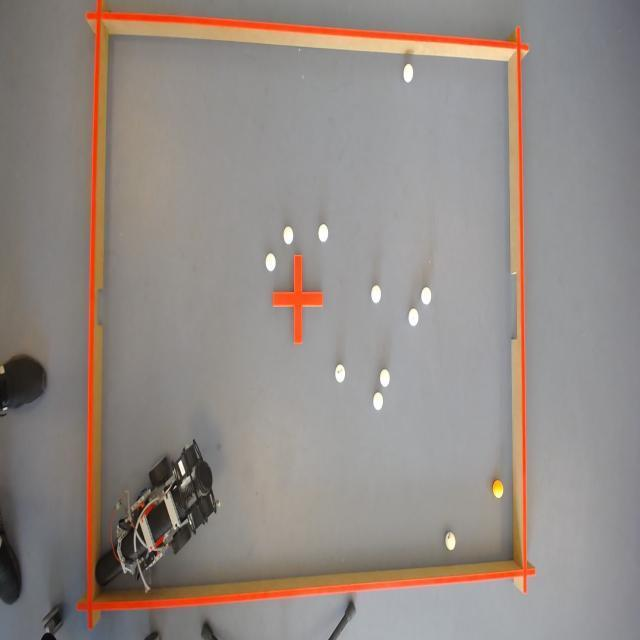orange: (493, 479, 506, 498)
robot: (95, 437, 218, 603)
white: (282, 224, 294, 245), (316, 222, 328, 242), (334, 364, 346, 384), (402, 62, 414, 82), (265, 252, 276, 273), (444, 533, 456, 552), (370, 284, 381, 304), (379, 369, 391, 387), (408, 306, 418, 326), (372, 392, 382, 411), (420, 286, 430, 304)
